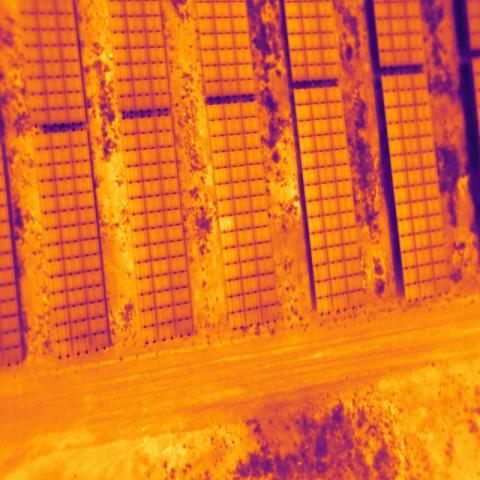fault: (217, 214, 237, 234)
